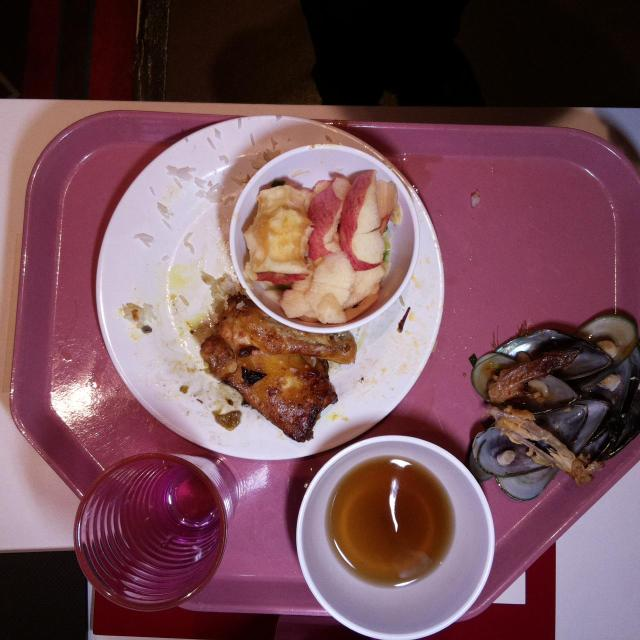Apple-core: (246, 183, 318, 286)
Apple-peel: (338, 172, 400, 314)
Bone: (491, 408, 591, 484), (487, 342, 585, 402)
Meat: (238, 349, 336, 443), (218, 301, 260, 353)
Mussel-shell: (469, 309, 639, 503)
